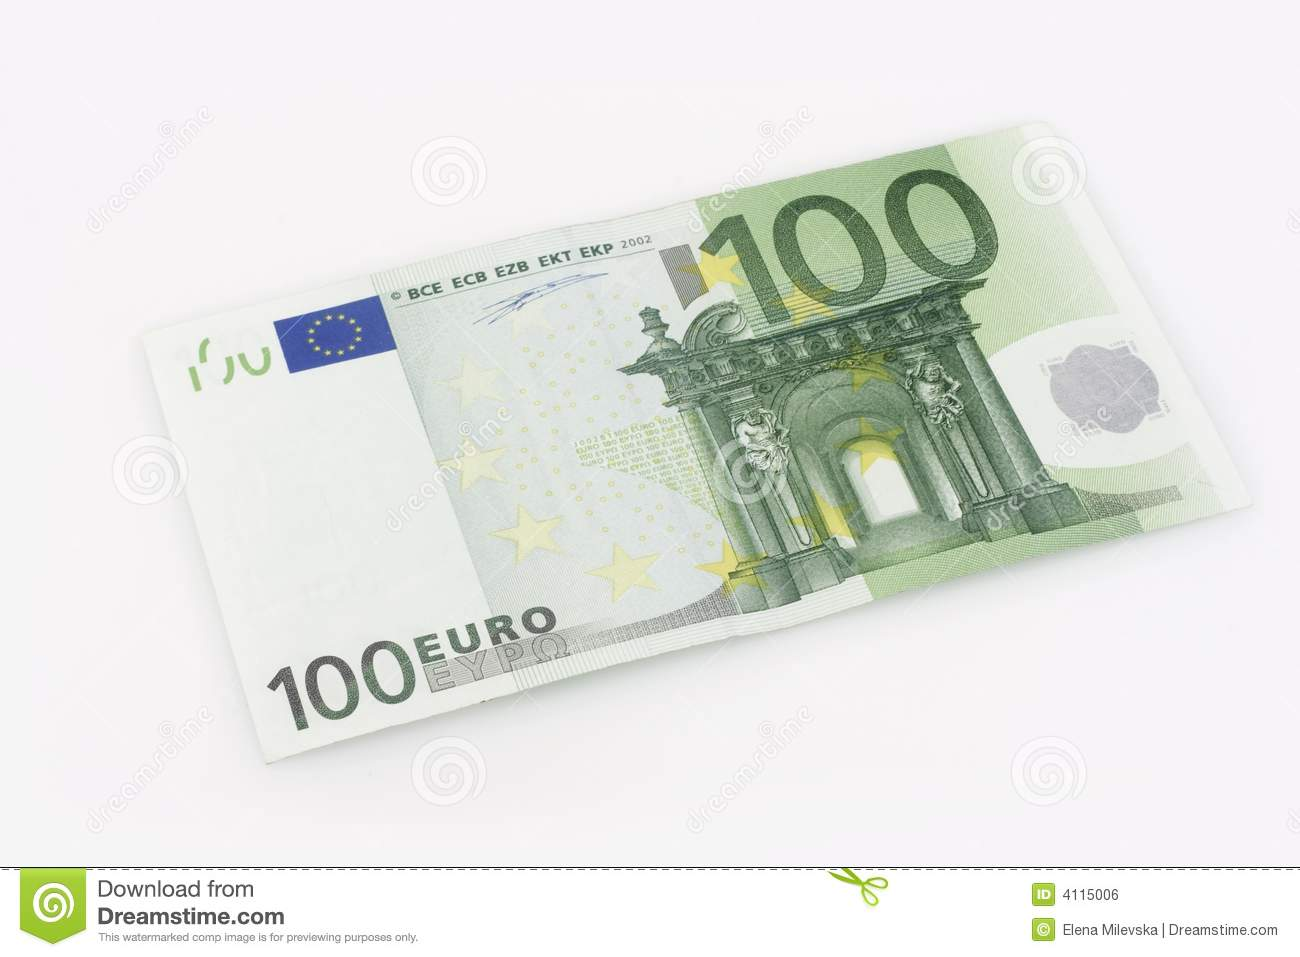billete: (136, 118, 1257, 769)
